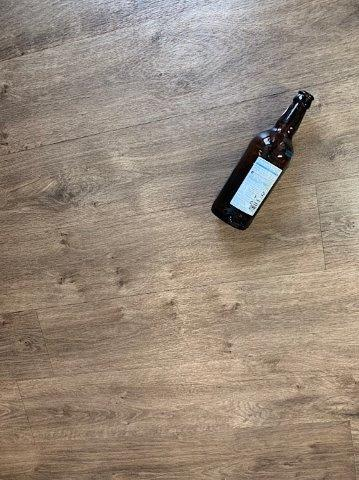botolkaca: (213, 92, 315, 230)
